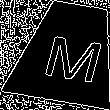M_N: (33, 23, 102, 82)
